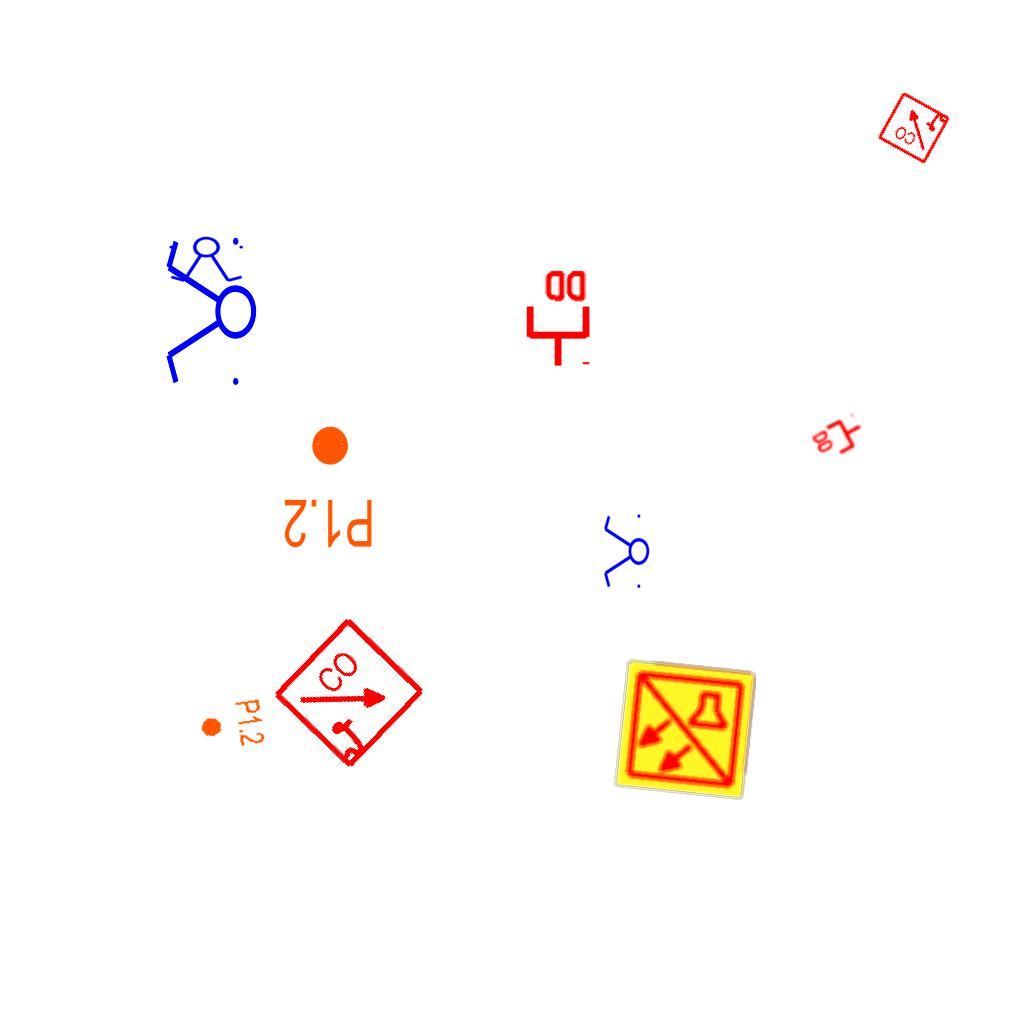Datenanschluss_zweifach: (522, 266, 591, 369), (808, 411, 870, 466)
Downlight_LED_Einbauleuchten_Flur: (282, 423, 375, 551), (197, 697, 267, 753)
OKW_Multisensormelder_(Kombination_optischer_Rauch-Kahlenmonoxid_Waerme-Melder): (612, 656, 758, 802)
ROA_Rauchmelder_optisch_mit_Signalgeber_(Sockelsirene): (270, 613, 431, 774), (875, 88, 953, 166)
Serienschalter: (162, 229, 258, 397), (602, 510, 650, 594), (165, 236, 249, 284)
